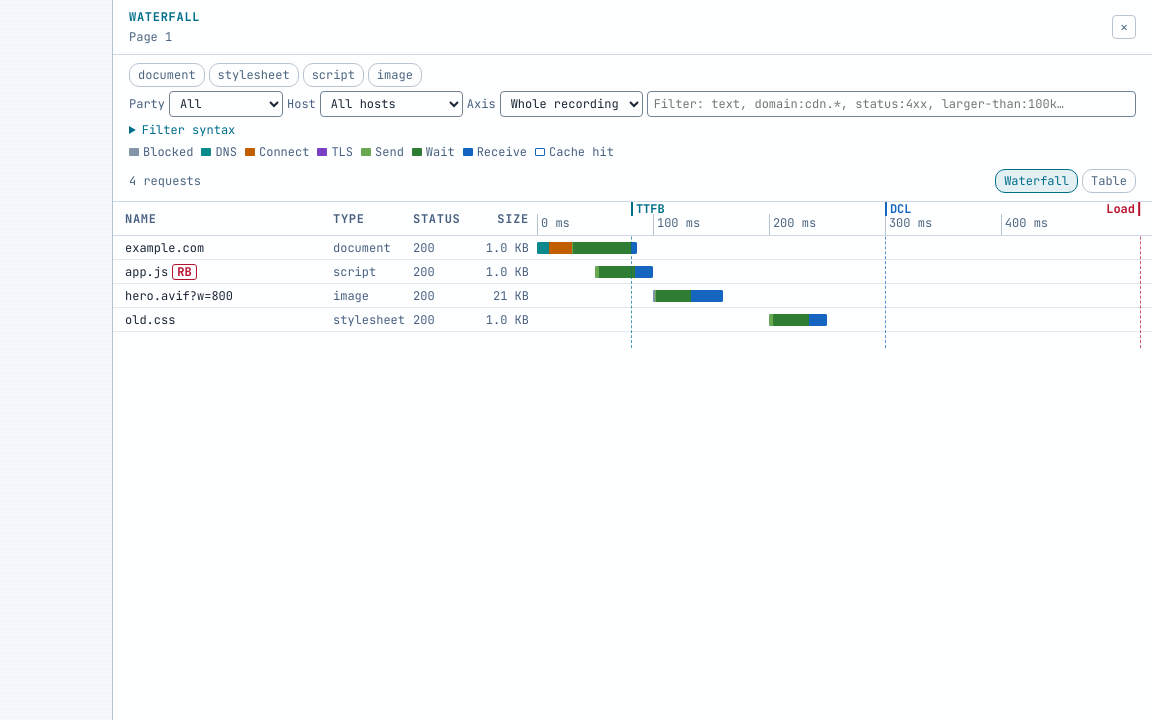
Test: WaterfallPanel: the detail of a request › lists the request's facts: method, status, protocol, priority, type
Click the button "hero.avif?w=800 image 200 21 KB": (179, 296) [113,284,1151,308]
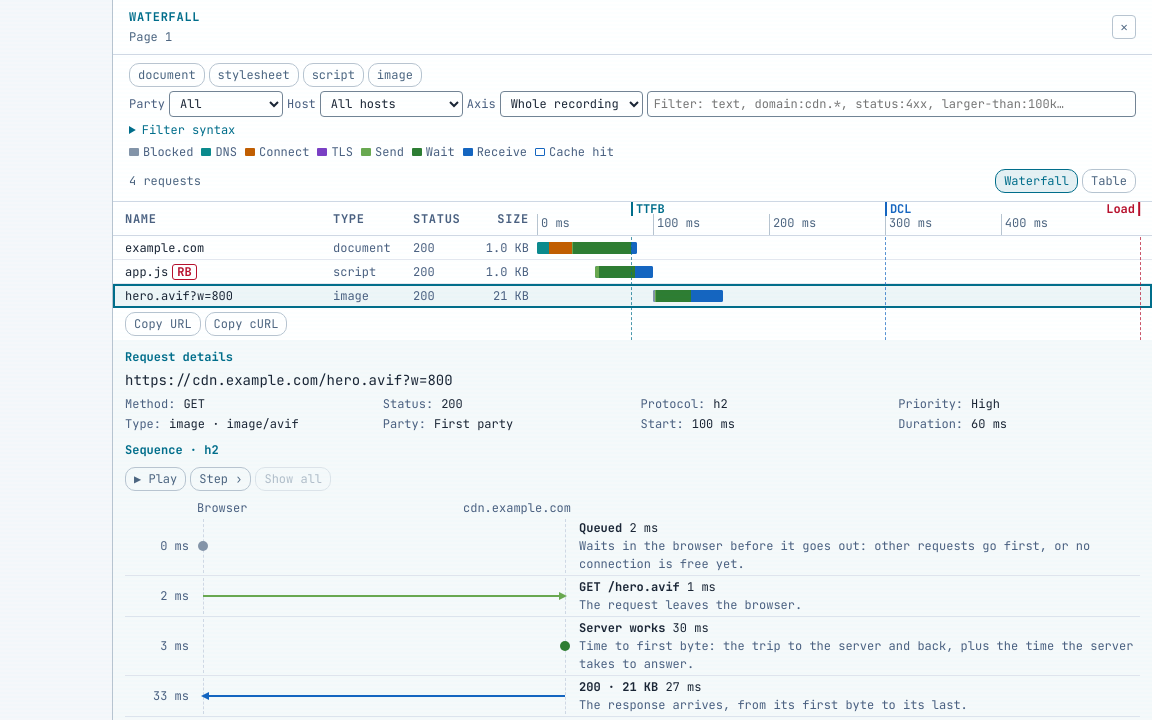
Expected: the text "GET" is shown, [183,395,205,413]
Expected: the text "High" is shown, [971,395,1000,413]
Expected: the text "image · image/avif" is shown, [169,415,299,433]
